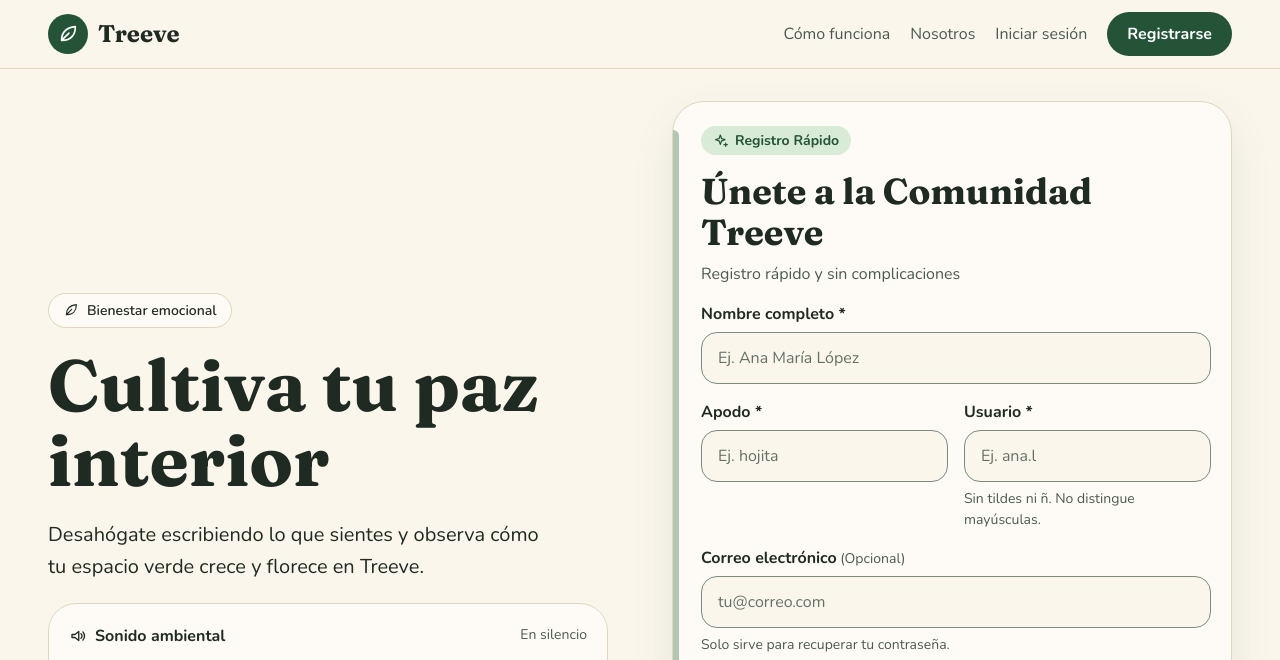
it: HU-03b: recuperar la contraseña, de punta a punta › pantalla 1: desde el inicio de sesión › el inicio de sesión tiene el enlace "¿Olvidaste tu contraseña?" y lleva a pedir el enlace
Step 1. Click the link "Iniciar sesión" → click(1041, 34), box [995,23,1087,45]
(page scrolled)
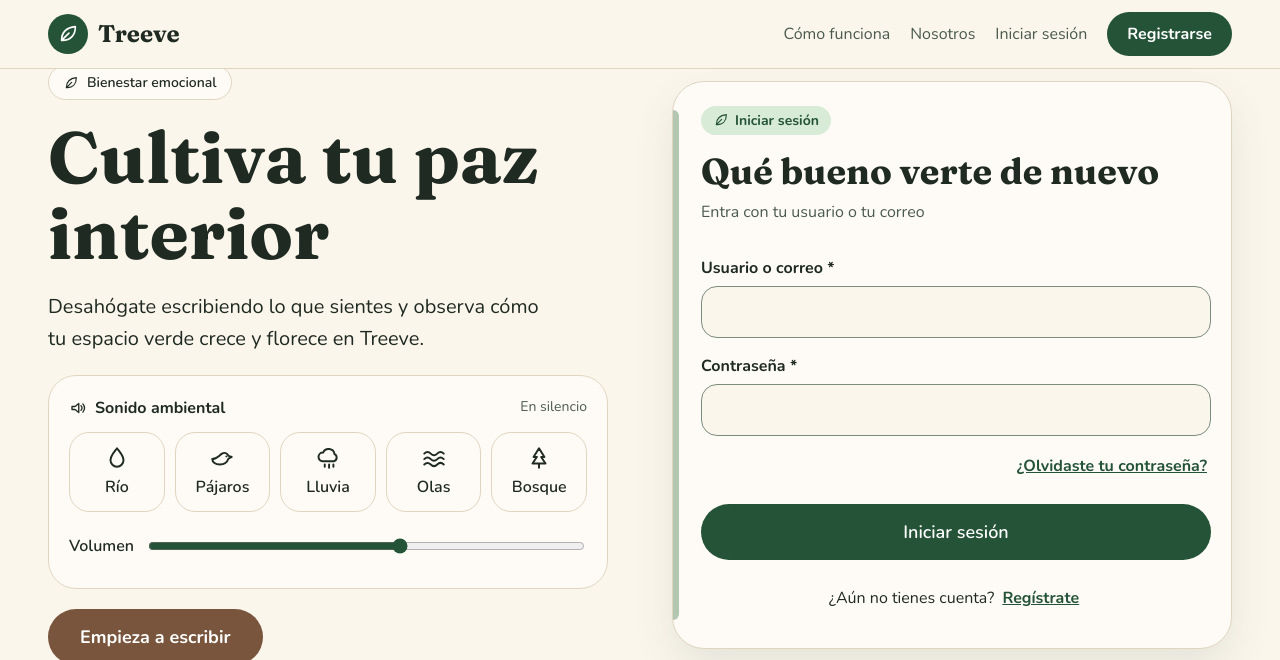
Step 2. Click the button "¿Olvidaste tu contraseña?" → click(1112, 466), box [1013,444,1211,488]
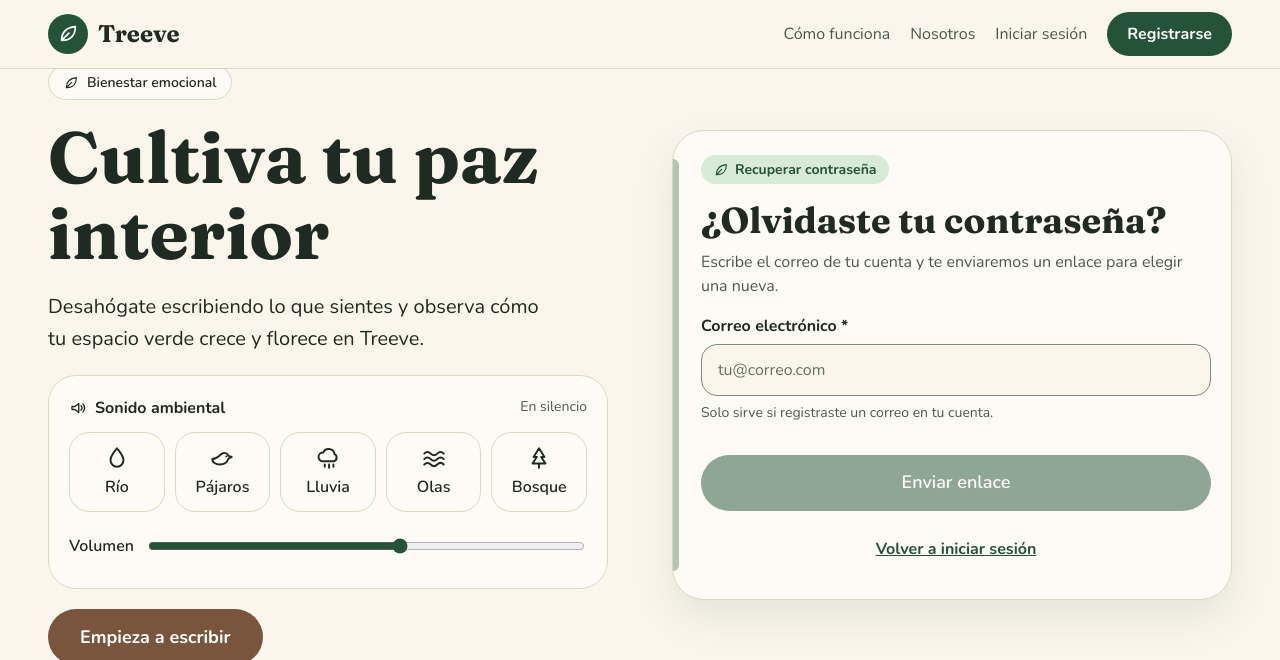
expect the heading "¿Olvidaste tu contraseña?" is shown: met, box [701,200,1211,242]
expect the button "Enviar enlace" is shown: met, box [701,455,1211,511]
